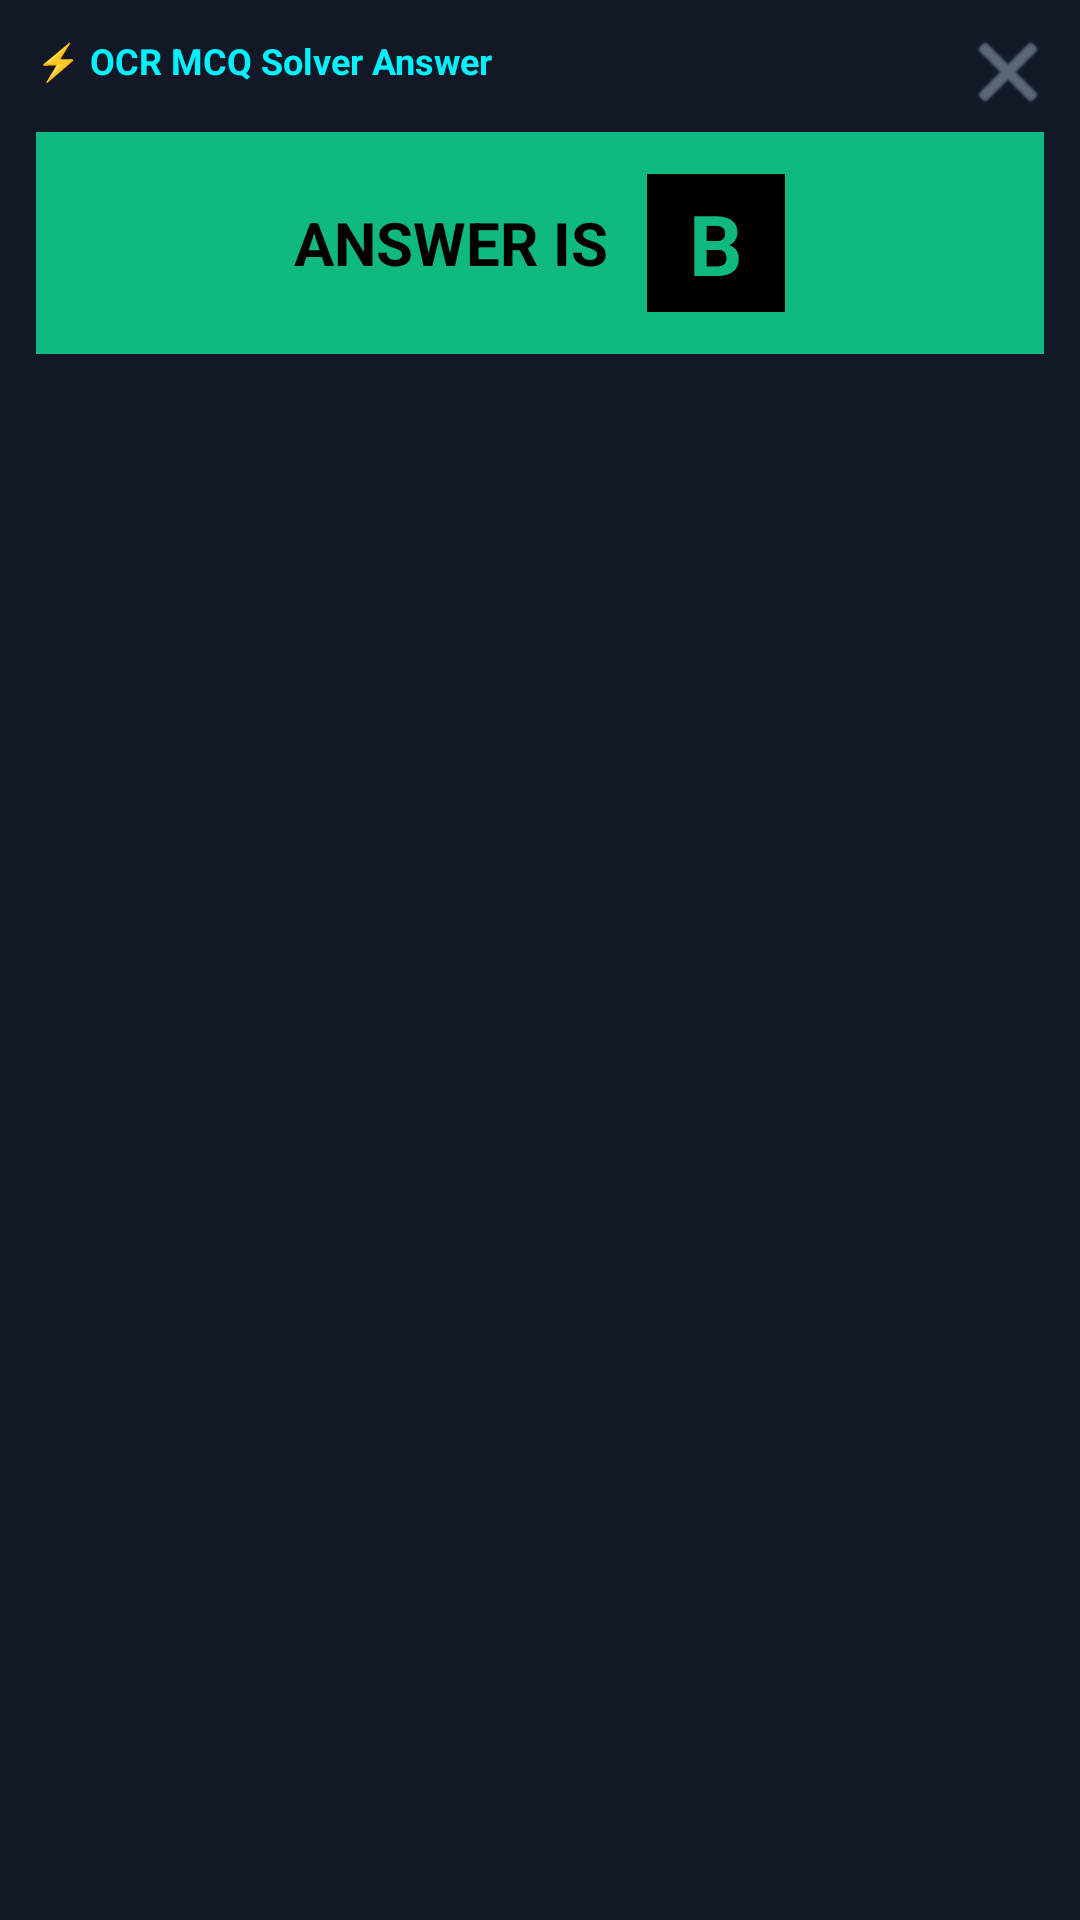

Screen size 1080×1920. Icon name, then its center in pixels as (x,y):
close clear cancel: (1008,72)
